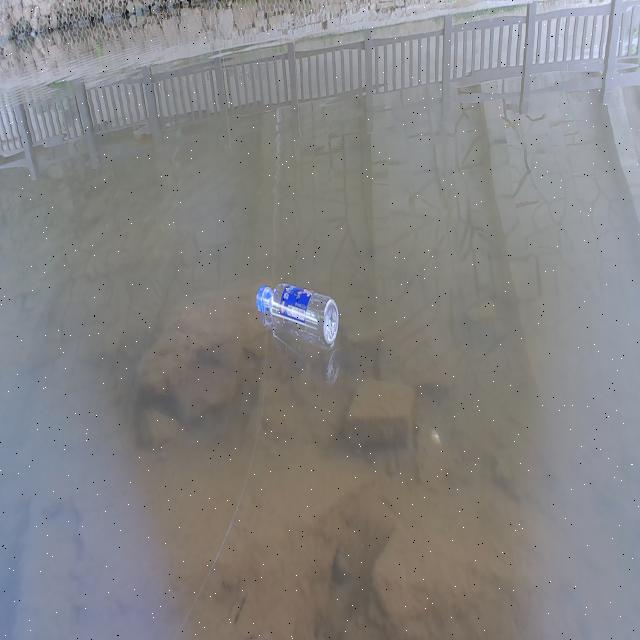Bottle: (253, 278, 340, 348)
